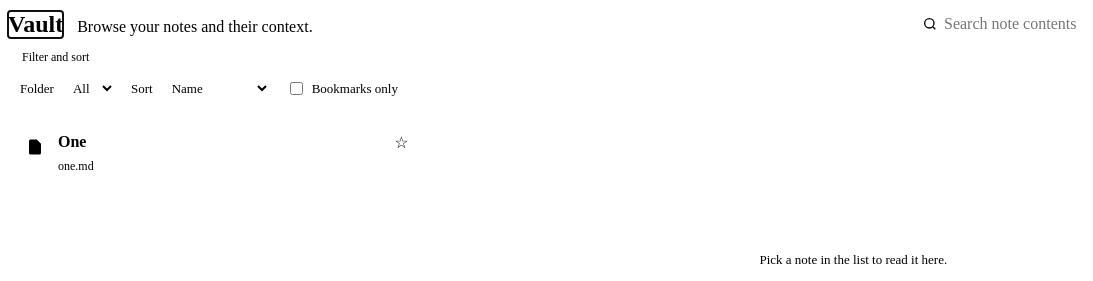
Scenario: VaultBrowser › shows fixed copy for a note_too_large read failure
Click the button "One" at (72, 142), box x1=58 y1=130 x2=380 y2=153
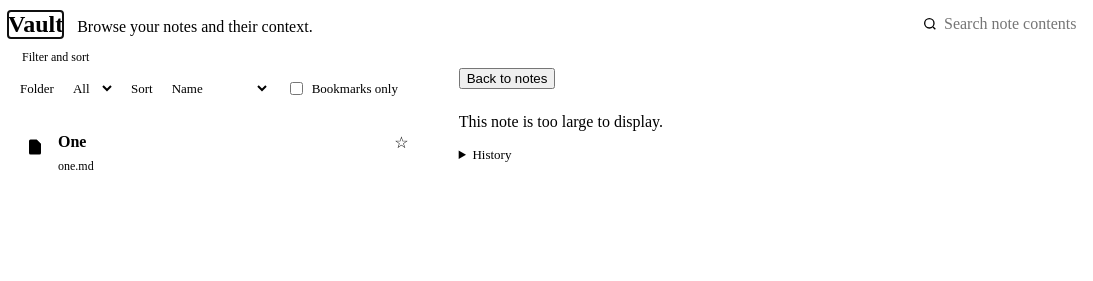
Expected: the message reads "This note is too large to display.", x1=459 y1=113 x2=663 y2=130
